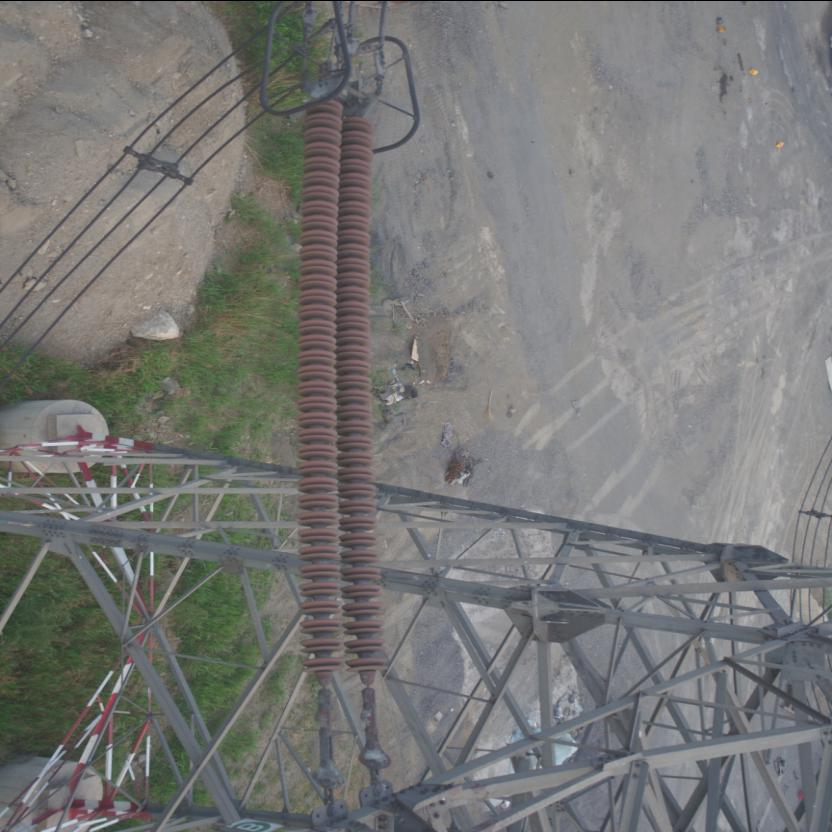insulator: (298, 86, 392, 726)
